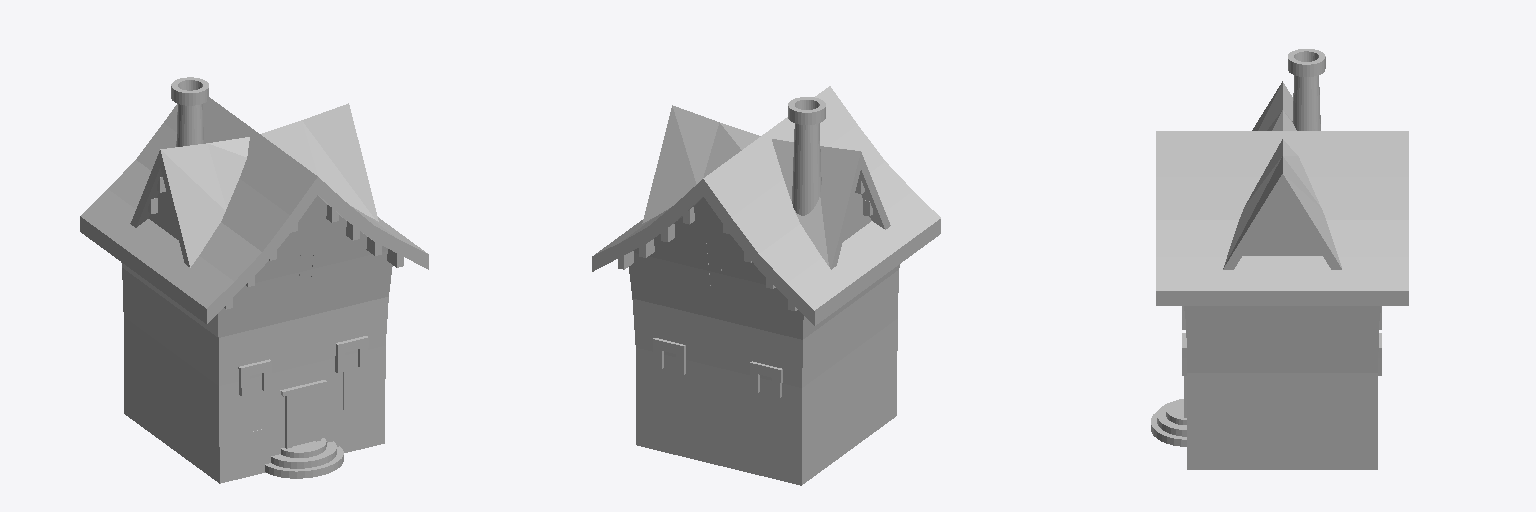
The model's file is skylight.obj.
The picture shows the model from 3 angles: view 1: azimuth 30°, elevation 25°; view 2: azimuth 150°, elevation 25°; view 3: azimuth 270°, elevation 25°; orthographic projection.
Parts seen in each view (by area): view 1: Mesh1_Group1_Model, Cube.001_Cube.000, Cube.002_Cube.001, Cube, Cylinder, Plane, Plane.001, Plane.002; view 2: Mesh1_Group1_Model, Cube.001_Cube.000, Cube.002_Cube.001, Cylinder, Plane; view 3: Cube.001_Cube.000, Mesh1_Group1_Model, Cube.002_Cube.001, Cylinder, Cube.
Boxes of the visible parts, x1=… form: Mesh1_Group1_Model: x1=121, y1=192, x2=392, y2=483; Cube.001_Cube.000: x1=80, y1=97, x2=428, y2=323; Cube.002_Cube.001: x1=130, y1=103, x2=378, y2=267; Cube: x1=265, y1=438, x2=343, y2=478; Cylinder: x1=171, y1=77, x2=208, y2=146; Plane: x1=238, y1=336, x2=368, y2=395; Plane.001: x1=292, y1=389, x2=315, y2=446; Plane.002: x1=280, y1=380, x2=326, y2=448; Mesh1_Group1_Model: x1=629, y1=193, x2=899, y2=485; Cube.001_Cube.000: x1=592, y1=86, x2=940, y2=325; Cube.002_Cube.001: x1=642, y1=105, x2=890, y2=269; Cylinder: x1=788, y1=97, x2=825, y2=215; Plane: x1=653, y1=338, x2=782, y2=397; Cube.001_Cube.000: x1=1156, y1=131, x2=1408, y2=305; Mesh1_Group1_Model: x1=1184, y1=191, x2=1380, y2=469; Cube.002_Cube.001: x1=1223, y1=81, x2=1341, y2=269; Cylinder: x1=1288, y1=49, x2=1325, y2=130; Cube: x1=1151, y1=399, x2=1186, y2=446.
Bounding box in the file's own units: 4.14 × 6.17 × 4.16.